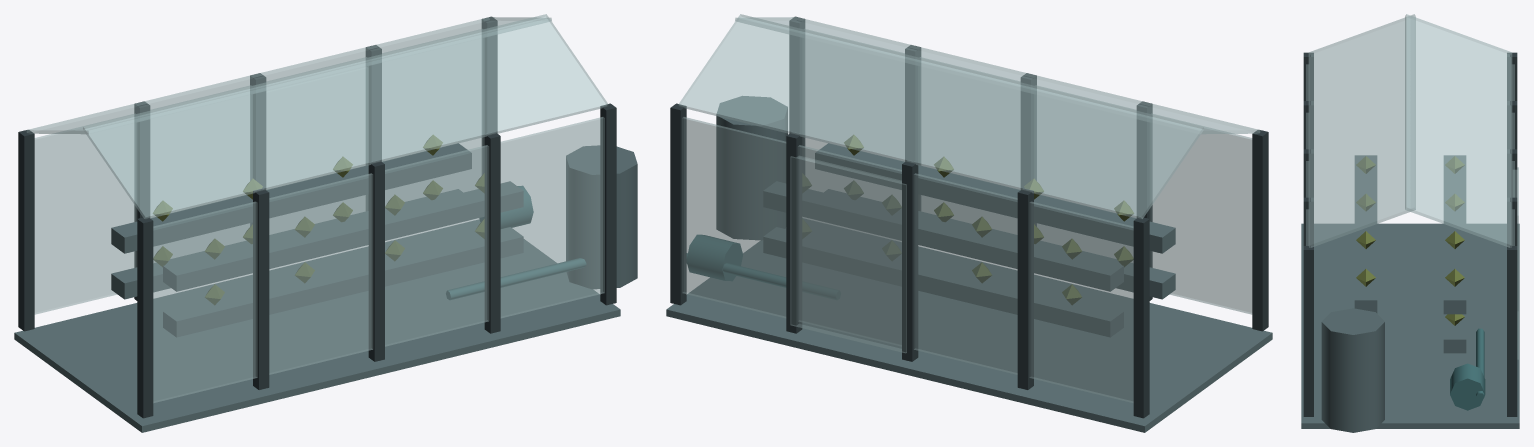
File: Hydroponic-House.glb
3 renders of one model, left to right at view 1: azimuth 30°, elevation 25°; view 2: azimuth 150°, elevation 25°; view 3: azimuth 270°, elevation 25°, orthographic. The views are drawn at different scales.
Visible parts, largest first — view 1: hand-pump-static-hydro-glass, hand-pump-static-hydro-rack, hand-pump-static-hydro-frame, hand-pump-static-hydro-tank, hand-pump-static-hydro-plant, hand-pump-static-hydro-nutrient; view 2: hand-pump-static-hydro-glass, hand-pump-static-hydro-rack, hand-pump-static-hydro-frame, hand-pump-static-hydro-tank, hand-pump-static-hydro-plant, hand-pump-static-hydro-nutrient; view 3: hand-pump-static-hydro-glass, hand-pump-static-hydro-rack, hand-pump-static-hydro-frame, hand-pump-static-hydro-tank, hand-pump-static-hydro-nutrient, hand-pump-static-hydro-plant.
Boxes of the visible parts, left/top/right/bottom form: hand-pump-static-hydro-glass: left=26, top=14, right=608, bottom=402; hand-pump-static-hydro-rack: left=14, top=143, right=620, bottom=432; hand-pump-static-hydro-frame: left=18, top=16, right=616, bottom=418; hand-pump-static-hydro-tank: left=566, top=145, right=637, bottom=288; hand-pump-static-hydro-plant: left=153, top=135, right=484, bottom=304; hand-pump-static-hydro-nutrient: left=446, top=186, right=586, bottom=299; hand-pump-static-hydro-glass: left=678, top=14, right=1260, bottom=402; hand-pump-static-hydro-rack: left=666, top=143, right=1272, bottom=432; hand-pump-static-hydro-frame: left=670, top=16, right=1268, bottom=418; hand-pump-static-hydro-tank: left=716, top=96, right=787, bottom=240; hand-pump-static-hydro-plant: left=803, top=135, right=1133, bottom=304; hand-pump-static-hydro-nutrient: left=687, top=235, right=840, bottom=299; hand-pump-static-hydro-glass: left=1306, top=14, right=1518, bottom=359; hand-pump-static-hydro-rack: left=1301, top=155, right=1519, bottom=428; hand-pump-static-hydro-frame: left=1303, top=52, right=1517, bottom=416; hand-pump-static-hydro-tank: left=1321, top=308, right=1384, bottom=432; hand-pump-static-hydro-nutrient: left=1450, top=328, right=1485, bottom=410; hand-pump-static-hydro-plant: left=1356, top=156, right=1464, bottom=325.
Size of the model in its own units: 4.06 by 1.9 by 1.72.
